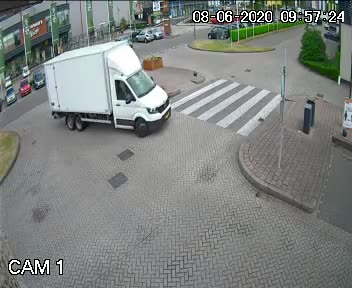car: (38, 37, 178, 141), (320, 22, 342, 46), (202, 24, 231, 41), (2, 88, 20, 105), (16, 78, 31, 97), (131, 29, 154, 41), (146, 26, 166, 39), (16, 65, 32, 78), (1, 73, 13, 89)
